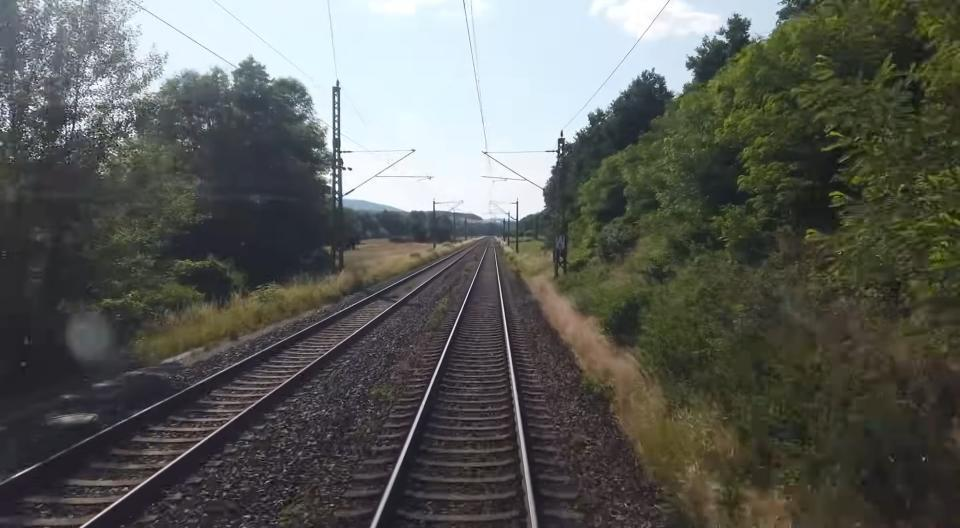Plant: (579, 373, 615, 407), (428, 296, 451, 326)
